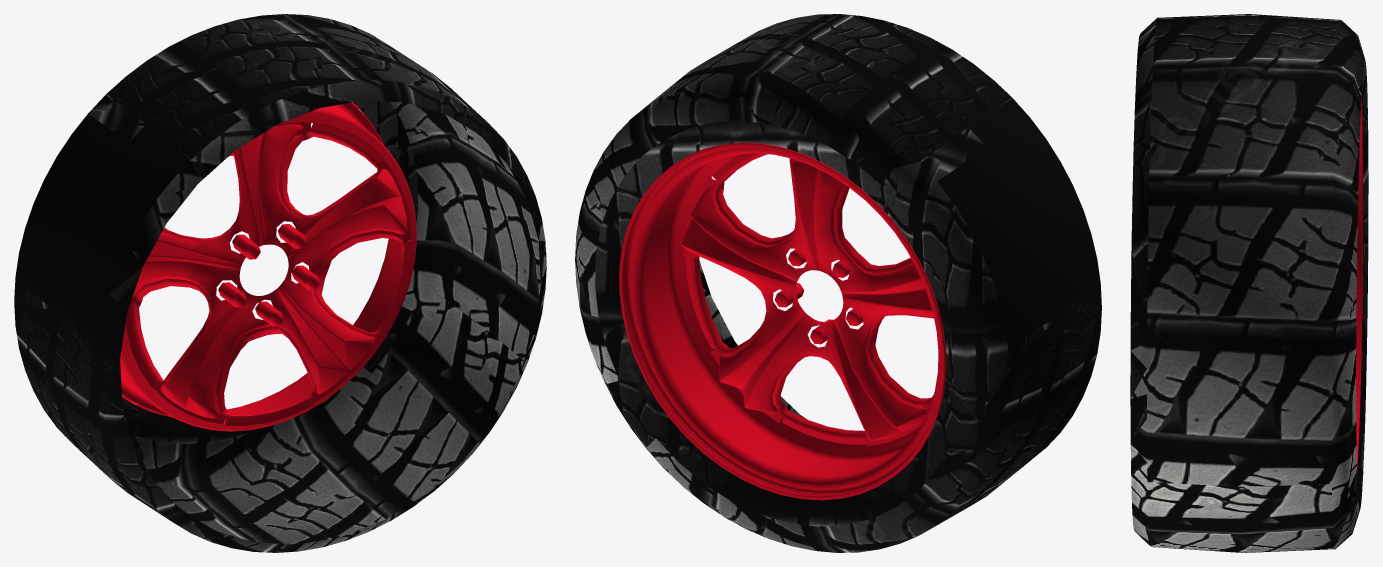
File: rueda_izqF.obj
3 renders of one model, left to right at view 1: azimuth 30°, elevation 25°; view 2: azimuth 150°, elevation 25°; view 3: azimuth 270°, elevation 25°, orthographic. The views are drawn at different scales.
Visible parts, largest first — view 1: rueda_izqF.005; view 2: rueda_izqF.005; view 3: rueda_izqF.005.
Boxes of the visible parts, box(x1,y1,x2,y2) form: rueda_izqF.005: box(14, 14, 546, 552); rueda_izqF.005: box(575, 14, 1101, 552); rueda_izqF.005: box(1130, 14, 1368, 552).
Size of the model in its own units: 0.701 by 0.7015 by 0.3098.
Materials: 9 (9 with a texture image).
